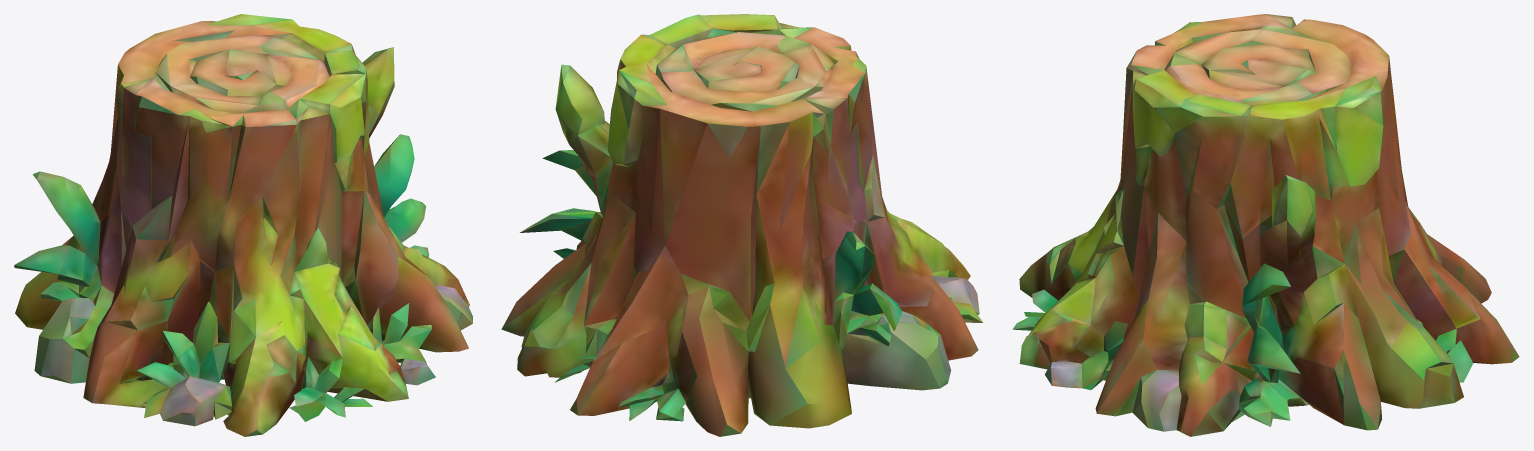
The model's file is tree-stump.glb.
3 views of the same model, side by side, from view 1: azimuth 30°, elevation 25°; view 2: azimuth 150°, elevation 25°; view 3: azimuth 270°, elevation 25° (orthographic). The views are drawn at different scales.
Visible parts, largest first — view 1: output_unwrapped; view 2: output_unwrapped; view 3: output_unwrapped.
Boxes of the visible parts, x1,y1,x2,y2 form: output_unwrapped: (14,14,472,436); output_unwrapped: (501,14,982,436); output_unwrapped: (1012,14,1519,436).
Bounding box in the file's own units: 1.82 × 1.15 × 1.9.
1 material, 1 textured.
